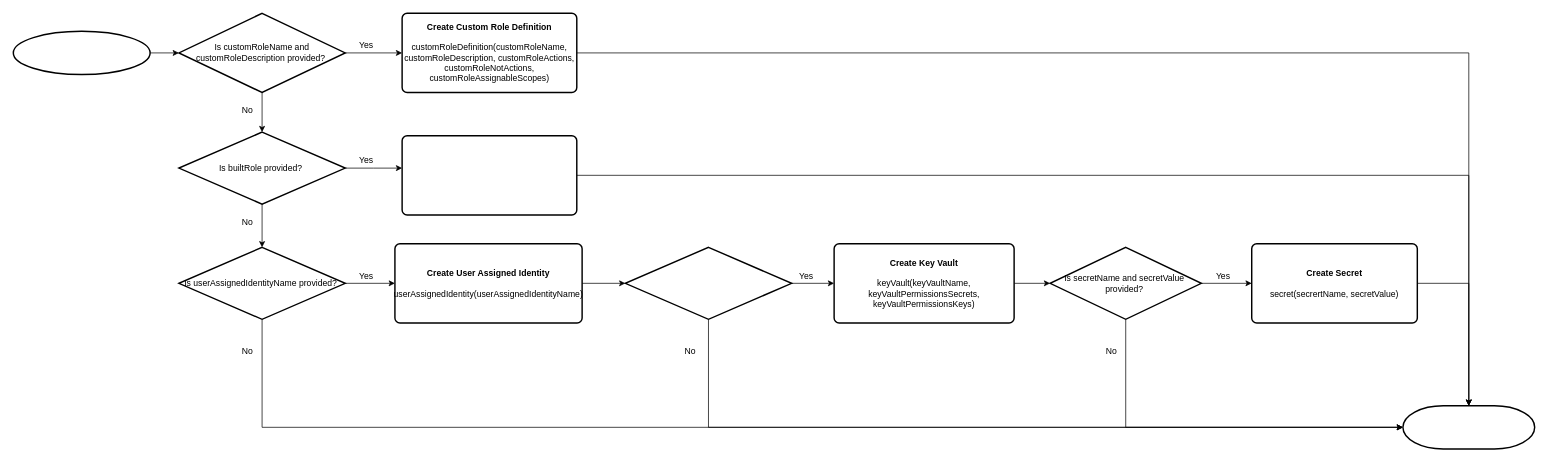
The diagram is 1547 pixels wide and 462 high, and some of its shapes have lost their labels. Here are the shapes that lost their labels. From the top down, the centre of each, then its label:
At point (81, 52): "Start".
At point (489, 175): "Create Built-in Role builtInRole(builtInRoleType)".
At point (708, 283): "Is keyVaultName provided?".
At point (1468, 427): "Done".
